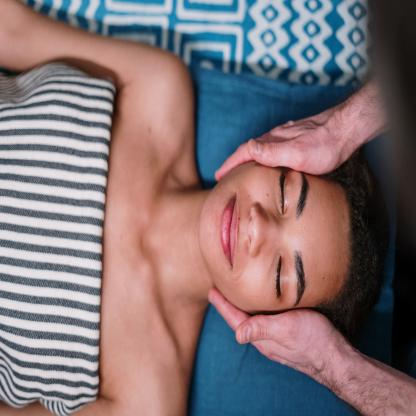Eye: (276, 169, 291, 216), (273, 254, 286, 301)
Mouth: (220, 193, 239, 269)
Nose: (247, 203, 277, 258)
